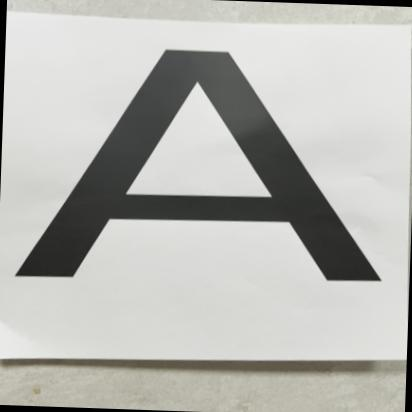seat: (0, 6, 412, 341)
